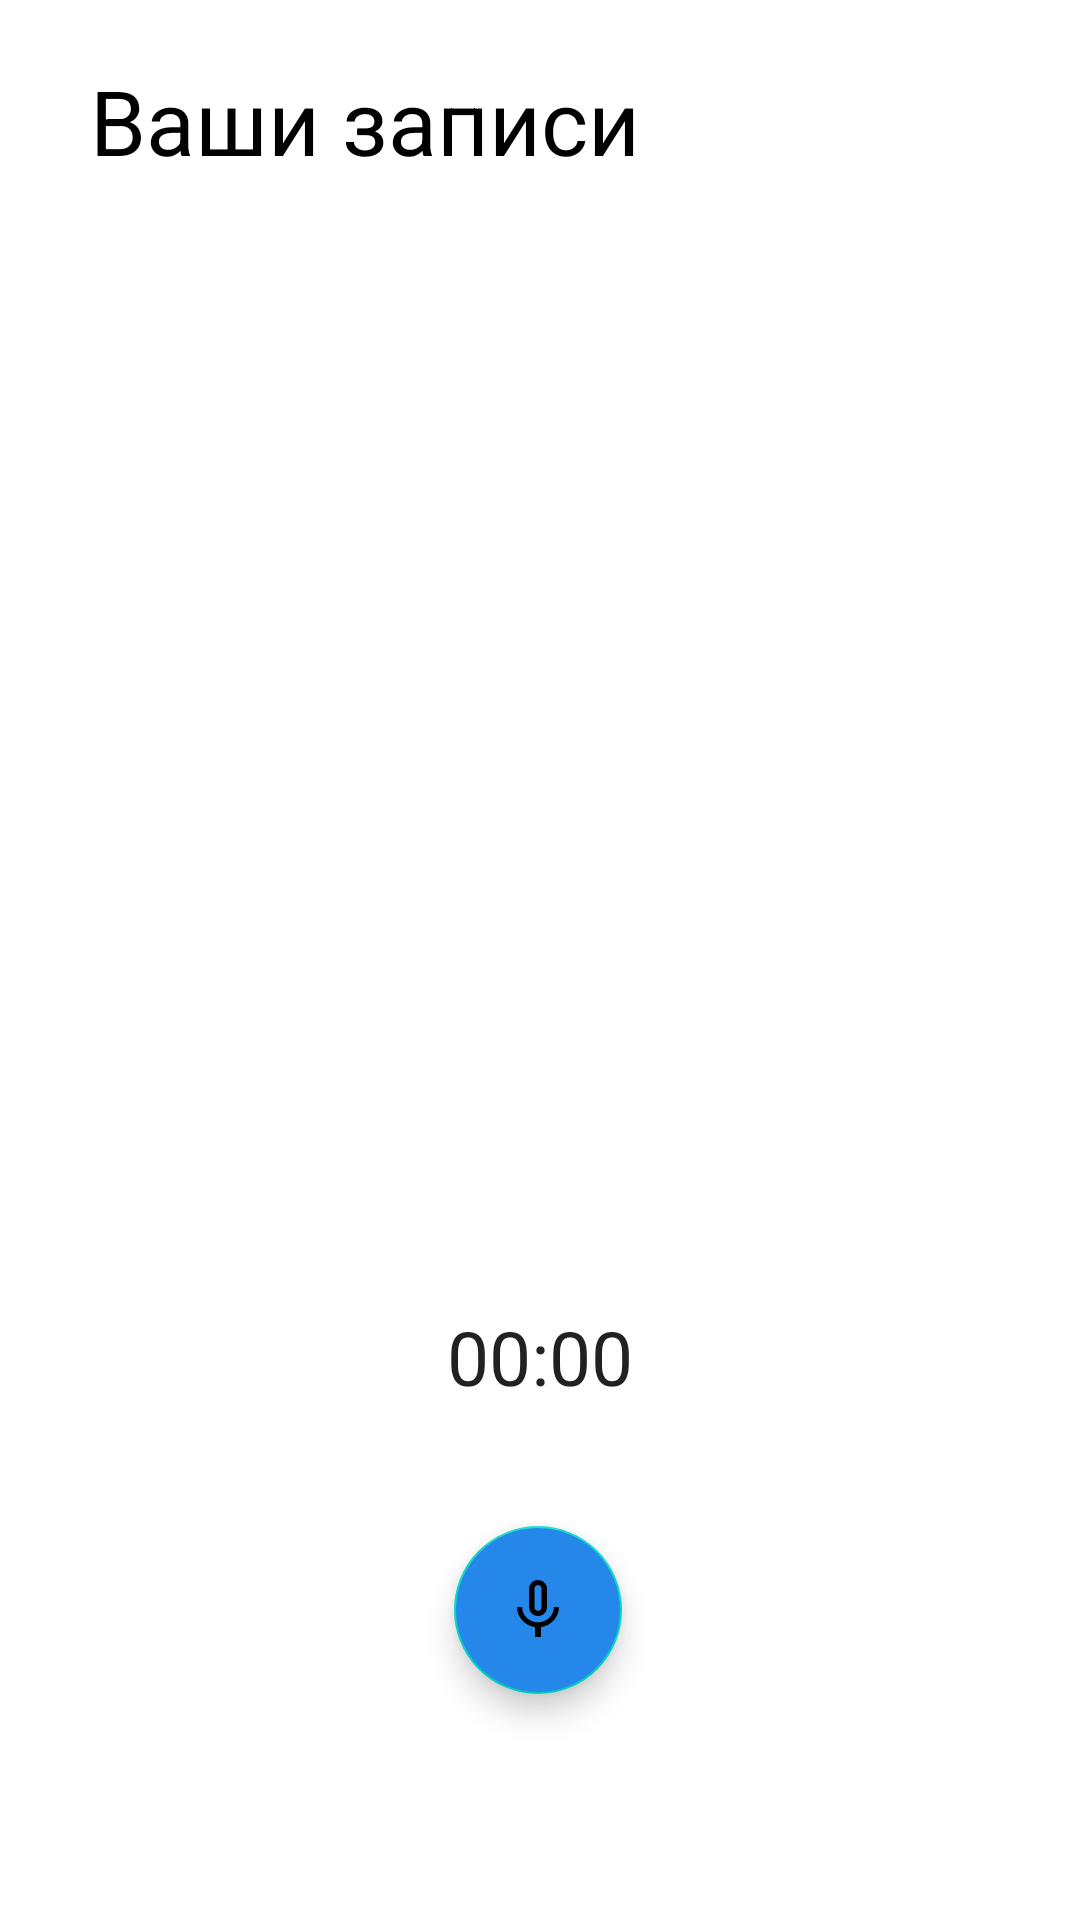

Point at icon controls on the screen. Image size 1080 × 1920, points as (x=x, y=y).
mic: (x=538, y=1610)
